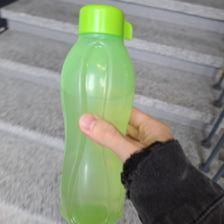bottle: (55, 5, 138, 222)
